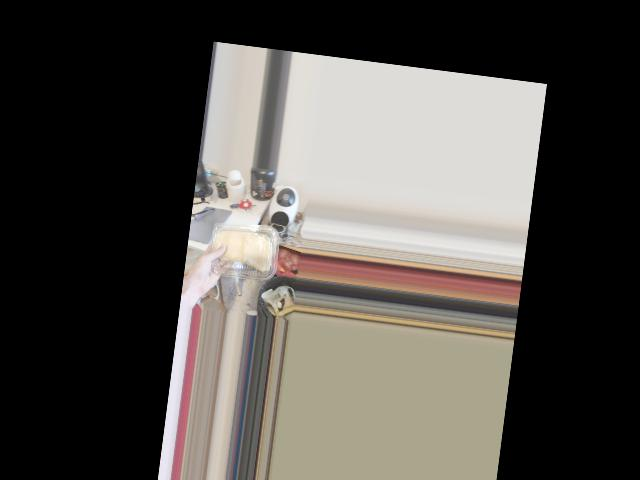cheese: (209, 214, 276, 285)
